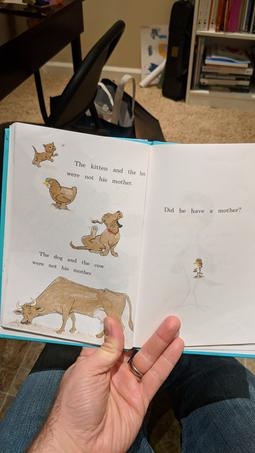text block: (57, 155, 149, 193), (24, 240, 107, 274), (156, 201, 249, 220)
